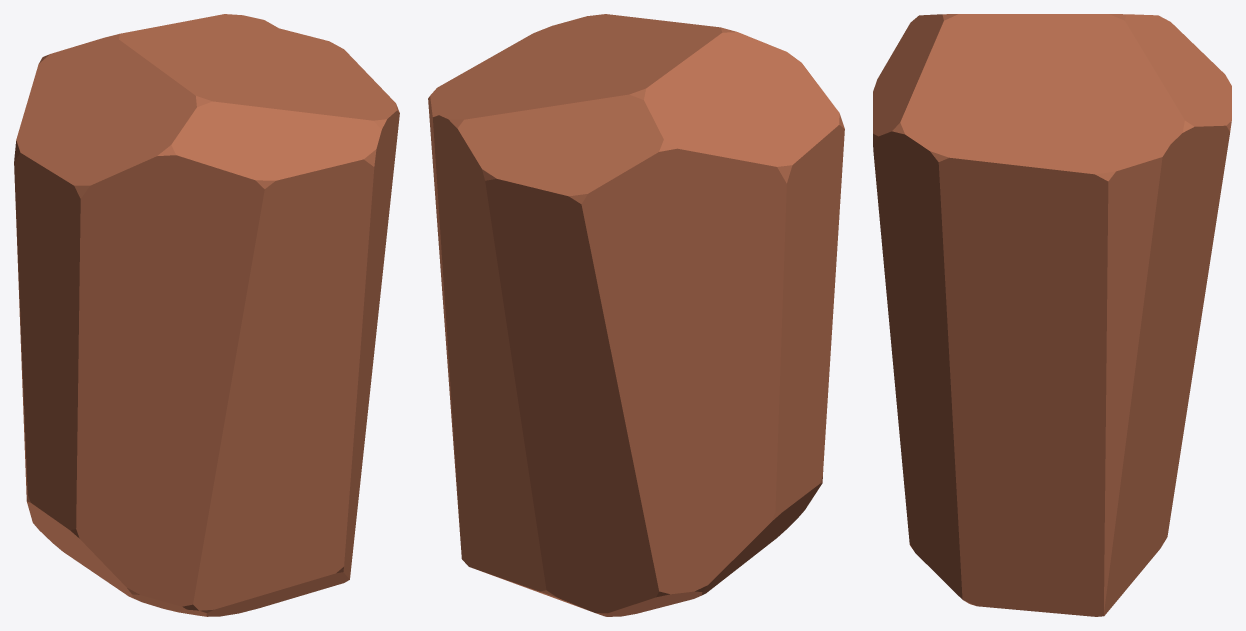
The model's file is Rock_03.fbx.
The picture shows the model from 3 angles, left to right: view 1: azimuth 30°, elevation 25°; view 2: azimuth 150°, elevation 25°; view 3: azimuth 270°, elevation 25°; orthographic projection. The views are drawn at different scales.
Visible parts, largest first — view 1: Rock_03; view 2: Rock_03; view 3: Rock_03.
Boxes of the visible parts, x1,y1,x2,y2 form: Rock_03: (14, 14, 399, 616); Rock_03: (428, 14, 844, 616); Rock_03: (873, 14, 1231, 616).
Bounding box in the file's own units: 365 × 554 × 338.
